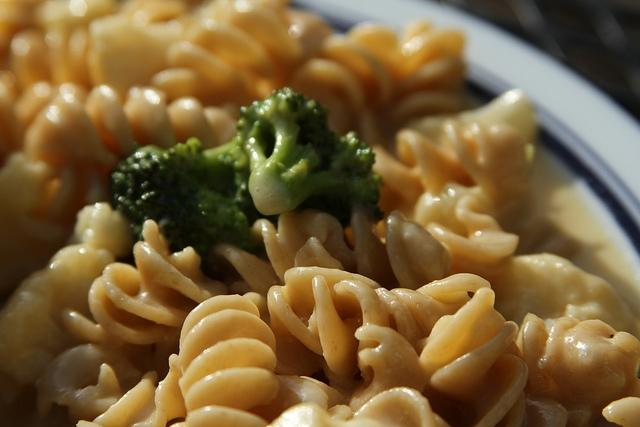broccoli: (110, 134, 280, 288), (218, 87, 386, 228)
